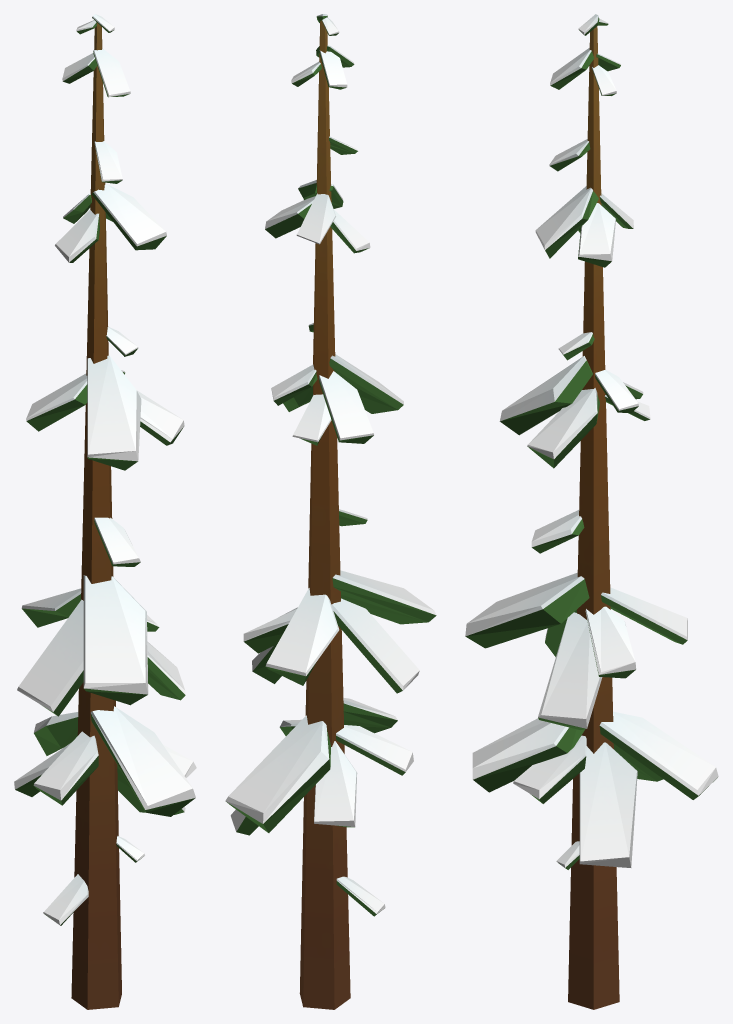
File: HX-shu1.FBX
3 views of the same model, side by side, from view 1: azimuth 30°, elevation 25°; view 2: azimuth 150°, elevation 25°; view 3: azimuth 270°, elevation 25° (orthographic).
Visible parts, largest first — view 1: shu1; view 2: shu1; view 3: shu1.
Boxes of the visible parts, x1,y1,x2,y2 form: shu1: (14,14,196,1009); shu1: (225,14,436,1009); shu1: (465,14,718,1009).
Size of the model in its own units: 565 by 3299 by 771.
